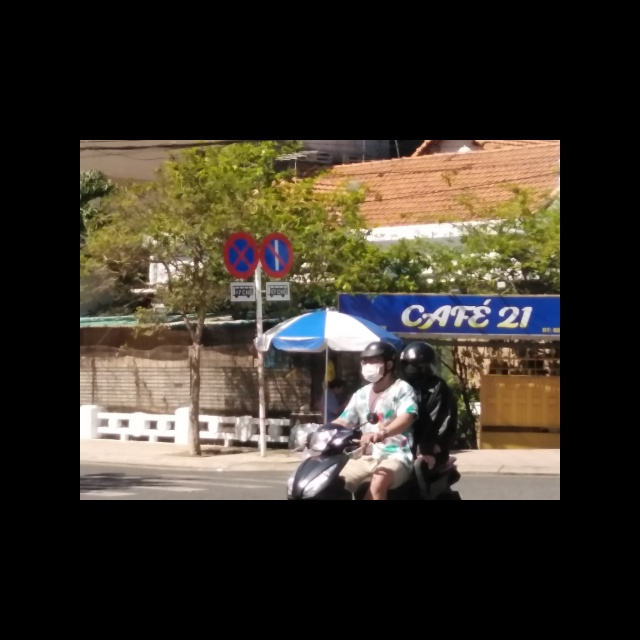Cấm dừng xe và đỗ xe: (224, 230, 259, 277)
Cấm đỗ xe ngày lẻ: (259, 231, 294, 277)
